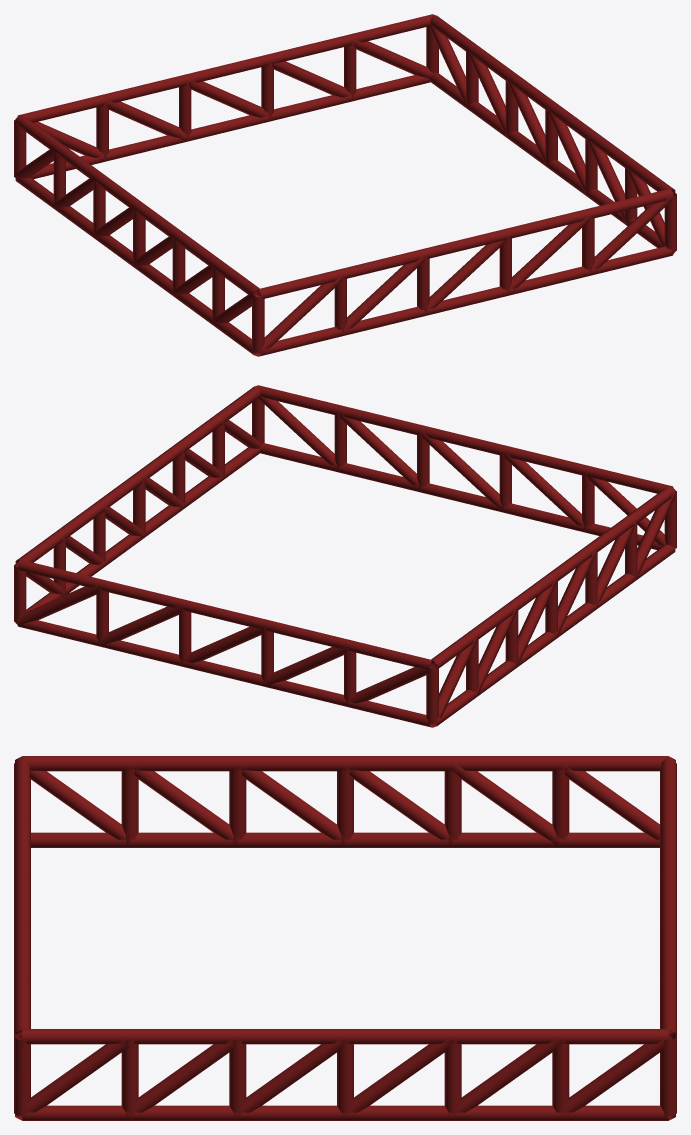
File: andamio5.DAE
The picture shows the model from 3 angles, top to bottom: view 1: azimuth 30°, elevation 25°; view 2: azimuth 150°, elevation 25°; view 3: azimuth 270°, elevation 25°; orthographic projection. The views are drawn at different scales.
Visible parts, largest first — view 1: andamio22_95; view 2: andamio22_95; view 3: andamio22_95.
Part boxes in pixels (x1,y1,x2,y2): andamio22_95: [14, 14, 676, 356]; andamio22_95: [14, 385, 676, 727]; andamio22_95: [14, 756, 676, 1120].
Bounding box in the file's own units: 23.47 × 23.55 × 3.6.
